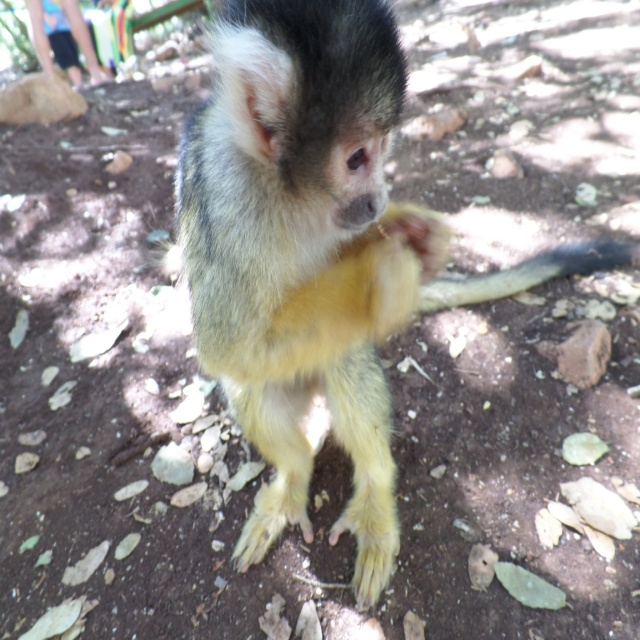Monkey: (178, 0, 640, 610)
